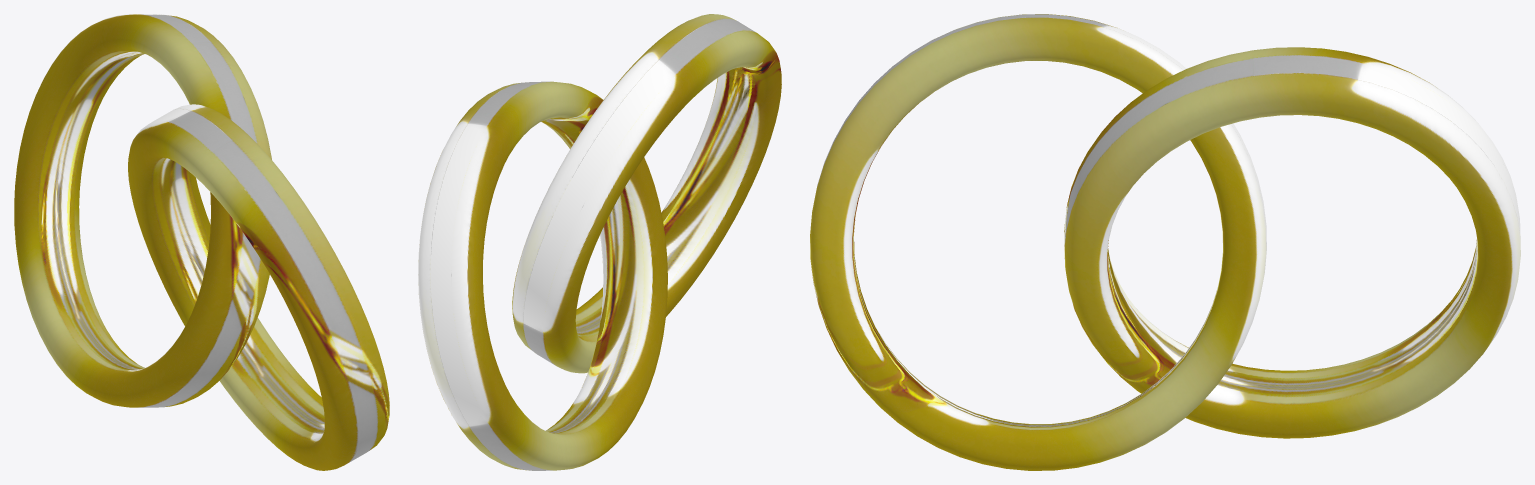
File: ringsbake.gltf
The picture shows the model from 3 angles, left to right: view 1: azimuth 30°, elevation 25°; view 2: azimuth 150°, elevation 25°; view 3: azimuth 270°, elevation 25°; orthographic projection. The views are drawn at different scales.
Visible parts, largest first — view 1: ring; view 2: ring; view 3: ring.
Part boxes in pixels (x1,y1,x2,y2): ring: [14, 14, 389, 470]; ring: [418, 14, 781, 470]; ring: [810, 14, 1520, 470].
Bounding box in the file's own units: 0.4687 × 1.02 × 1.6.
Materials: 2 (2 with a texture image).
